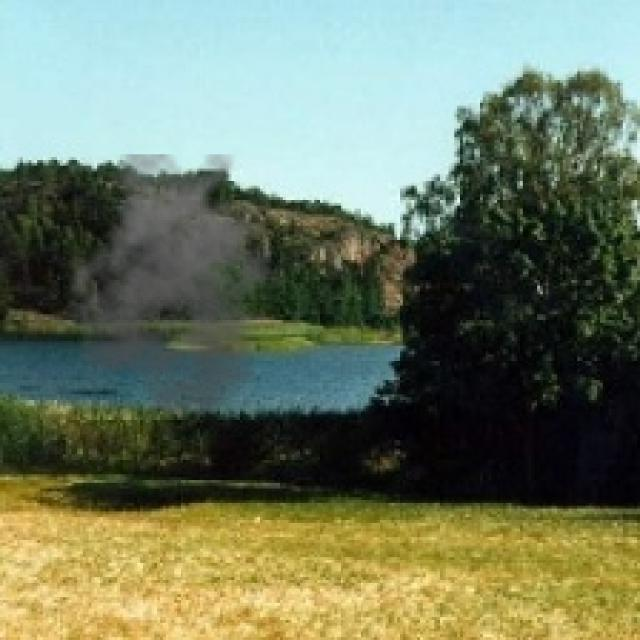smoke: (57, 154, 300, 417)
